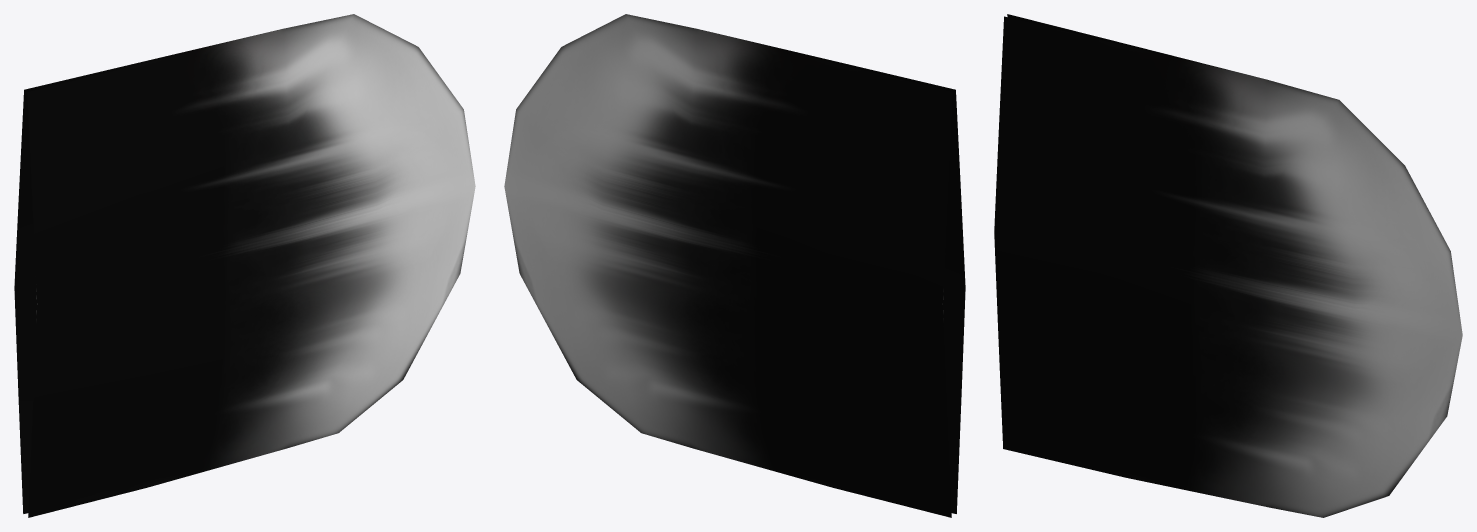
File: dao_niuqu_moxing.FBX
The picture shows the model from 3 angles, left to right: view 1: azimuth 30°, elevation 25°; view 2: azimuth 150°, elevation 25°; view 3: azimuth 330°, elevation 25°; orthographic projection.
Parts seen in each view (by area): view 1: Plane002; view 2: Plane002; view 3: Plane002.
Boxes of the visible parts, bbox=[...] form: Plane002: bbox=[14, 14, 475, 517]; Plane002: bbox=[504, 14, 965, 517]; Plane002: bbox=[994, 14, 1462, 517].
Bounding box in the file's own units: 88.84 × 80.23 × 7.76.
